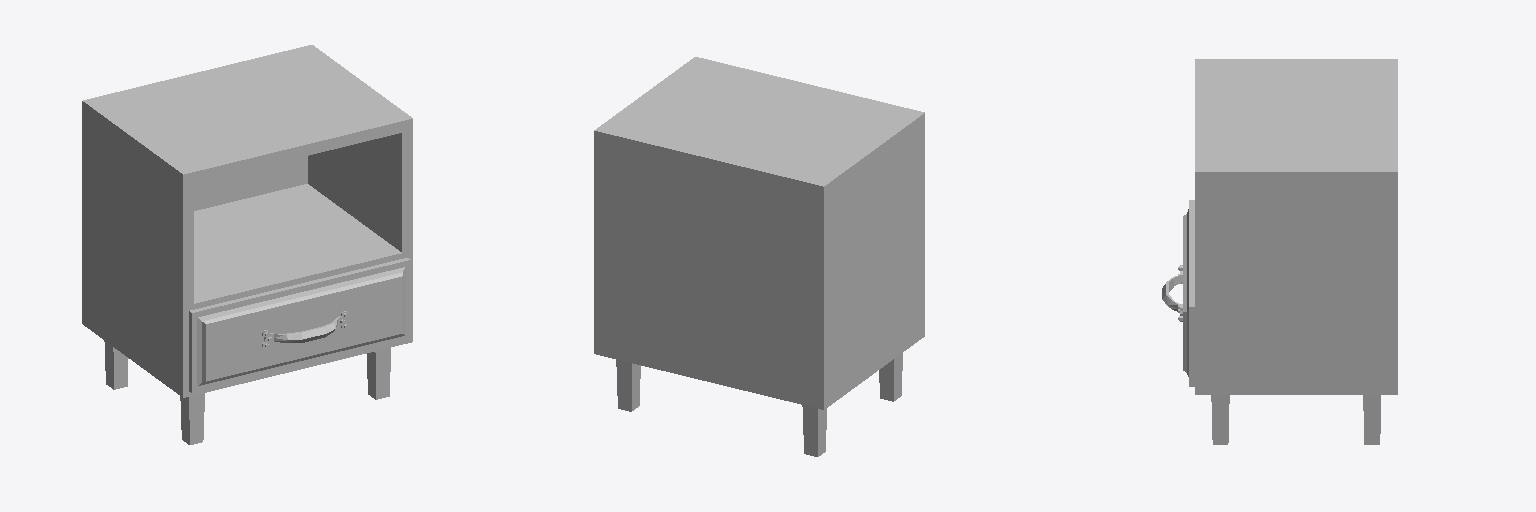
File: bedside_table_2_4.obj
3 renders of one model, left to right at view 1: azimuth 30°, elevation 25°; view 2: azimuth 150°, elevation 25°; view 3: azimuth 270°, elevation 25°, orthographic.
Parts seen in each view (by area): view 1: bedside_table_2_4, bedside_table_2_4_drawer; view 2: bedside_table_2_4; view 3: bedside_table_2_4, bedside_table_2_4_drawer.
Part boxes in pixels (x1,y1,x2,y2): bedside_table_2_4: (82, 45, 412, 444); bedside_table_2_4_drawer: (189, 258, 410, 392); bedside_table_2_4: (594, 57, 924, 456); bedside_table_2_4: (1195, 59, 1397, 444); bedside_table_2_4_drawer: (1162, 200, 1194, 386).
Size of the model in its own units: 0.504 by 0.588 by 0.4463.